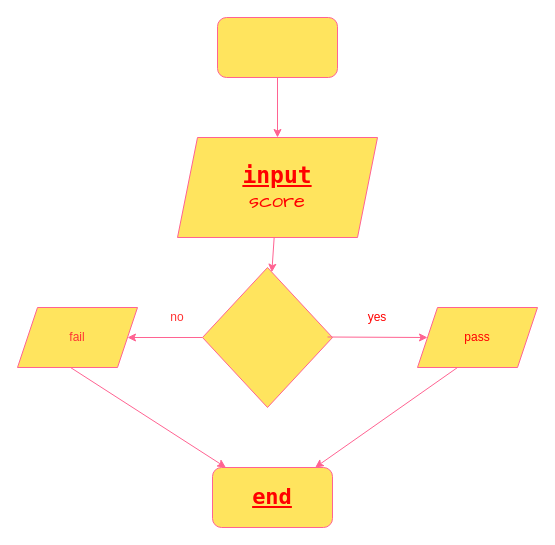
This 555x545 diagram has some shape labels left out. The shapes that lost their labels are listed below. From the top down, each one's centre as x and y in pixels, then its label:
At (277,47): "start".
At (267,337): "score<=60".
